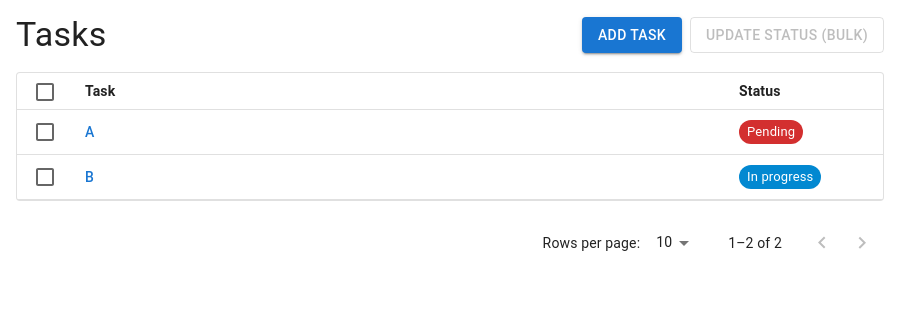
TasksPage › bulk button enables with selection, but shows error alert if selecting different statuses and clicking bulk
Expected: the button "Add task" is shown, [582,17,682,53]
Click the checkbox named "select A" at (45,132), box [33,120,57,144]
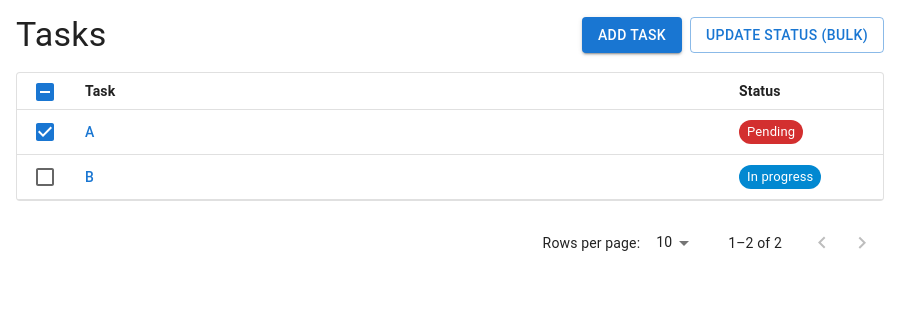
Click the checkbox named "select B" at (45,177), box [33,165,57,189]
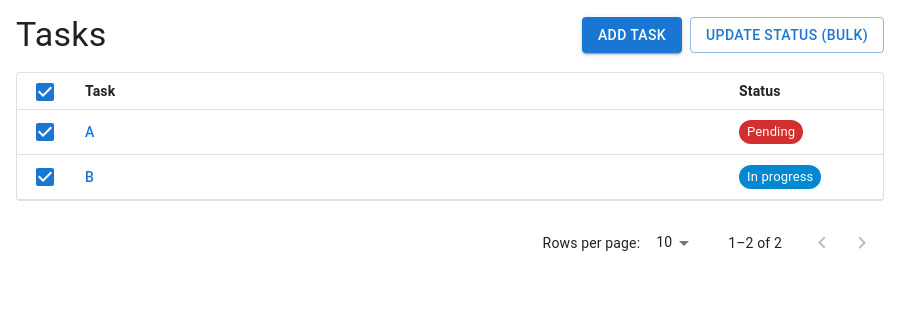
Now the button "Update status (bulk)" is enabled
Click the button "Update status (bulk)" at (787,35), box [690,17,884,53]
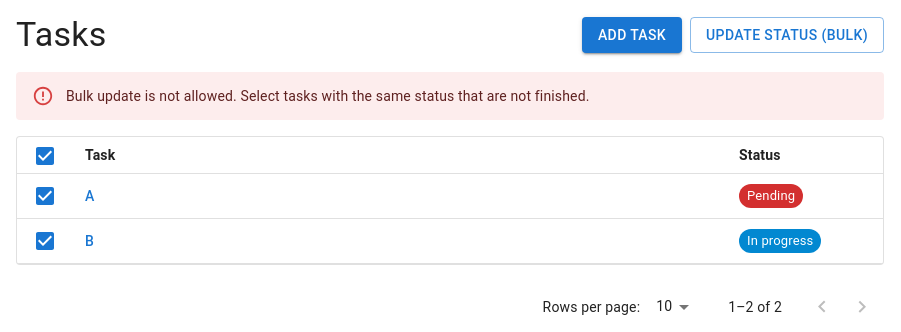
Now the message shows "Bulk update is not allowed", box [66,88,590,104]
